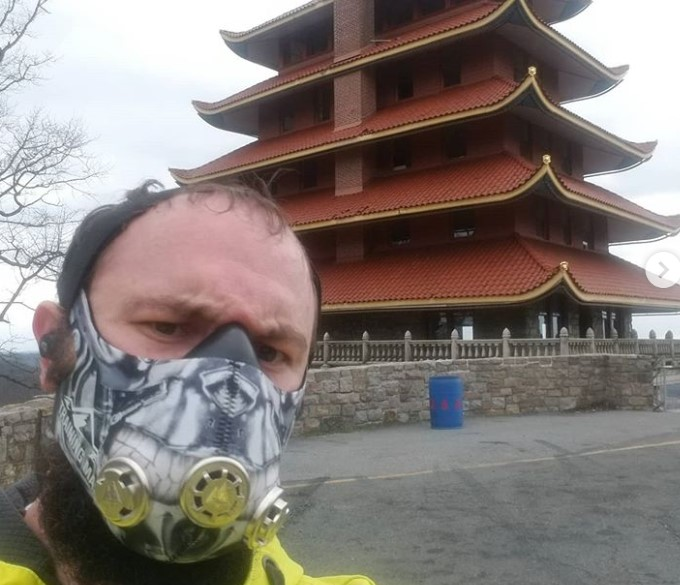face_with_mask: (29, 187, 324, 572)
